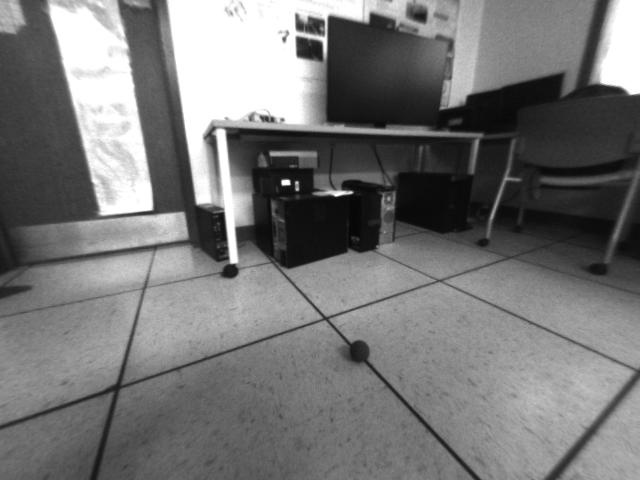dogtoy: (342, 329, 376, 368)
